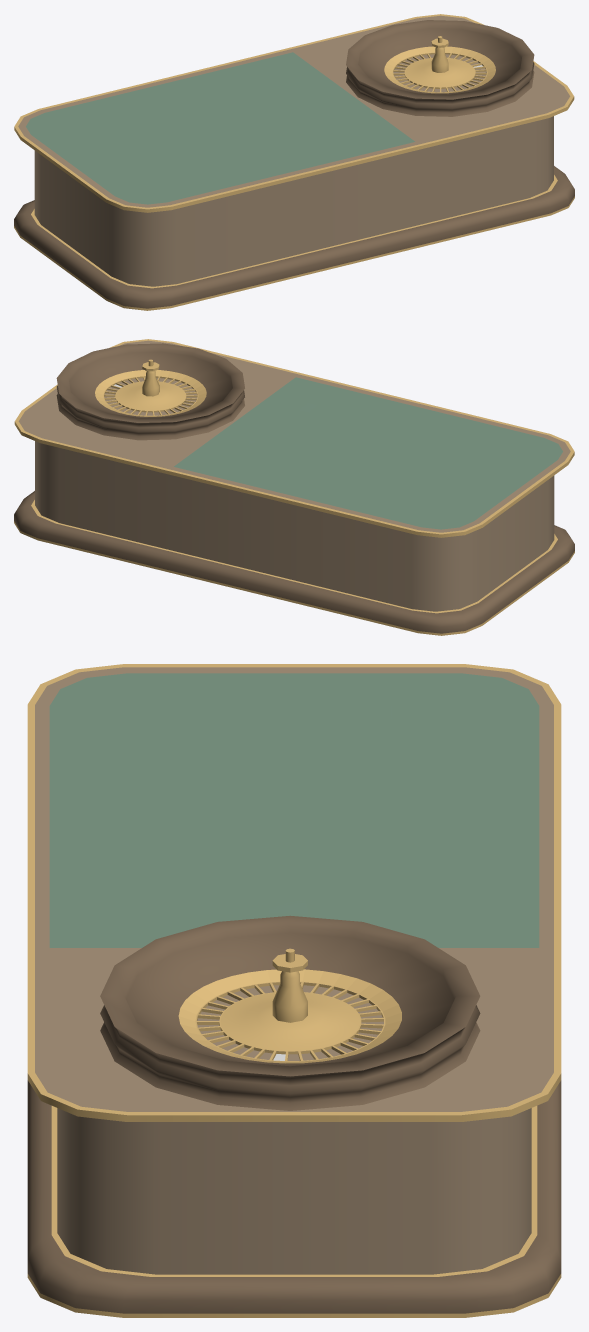
Rendered from roulette.fbx.
3 views of the same model, one above another, from view 1: azimuth 30°, elevation 25°; view 2: azimuth 150°, elevation 25°; view 3: azimuth 270°, elevation 25° (orthographic). The views are drawn at different scales.
Parts seen in each view (by area): view 1: roulette_table, roulette_table.001, roulette_table.007, black, red, zero, 2nd12, 3rd12, 1st12; view 2: roulette_table, roulette_table.001, roulette_table.007, black, red, zero, 1st12, 3rd12, 2nd12; view 3: roulette_table, roulette_table.001, roulette_table.007, black, red, 3rd12, 1st12, 2nd12, zero, TableNumber.
Boxes of the visible parts, bbox=[...] form: roulette_table: bbox=[14, 14, 574, 310]; roulette_table.001: bbox=[26, 52, 414, 204]; roulette_table.007: bbox=[384, 36, 495, 93]; black: bbox=[71, 105, 186, 138]; red: bbox=[177, 79, 292, 112]; zero: bbox=[306, 91, 385, 140]; 2nd12: bbox=[154, 105, 232, 128]; 3rd12: bbox=[83, 122, 161, 146]; 1st12: bbox=[225, 88, 302, 111]; roulette_table: bbox=[14, 339, 574, 635]; roulette_table.001: bbox=[174, 377, 562, 529]; roulette_table.007: bbox=[95, 359, 206, 416]; black: bbox=[341, 475, 456, 508]; red: bbox=[235, 449, 349, 482]; zero: bbox=[238, 390, 317, 440]; 1st12: bbox=[247, 441, 324, 464]; 3rd12: bbox=[389, 475, 466, 499]; 2nd12: bbox=[318, 458, 395, 481]; roulette_table: bbox=[27, 664, 561, 1317]; roulette_table.001: bbox=[49, 673, 539, 947]; roulette_table.007: bbox=[178, 948, 401, 1063]; black: bbox=[394, 705, 439, 807]; red: bbox=[394, 809, 439, 911]; 3rd12: bbox=[352, 705, 390, 773]; 1st12: bbox=[352, 844, 390, 911]; 2nd12: bbox=[352, 775, 390, 842]; zero: bbox=[101, 914, 348, 931]; TableNumber: bbox=[101, 879, 138, 912].
Size of the model in its own units: 420 by 123 by 210.
